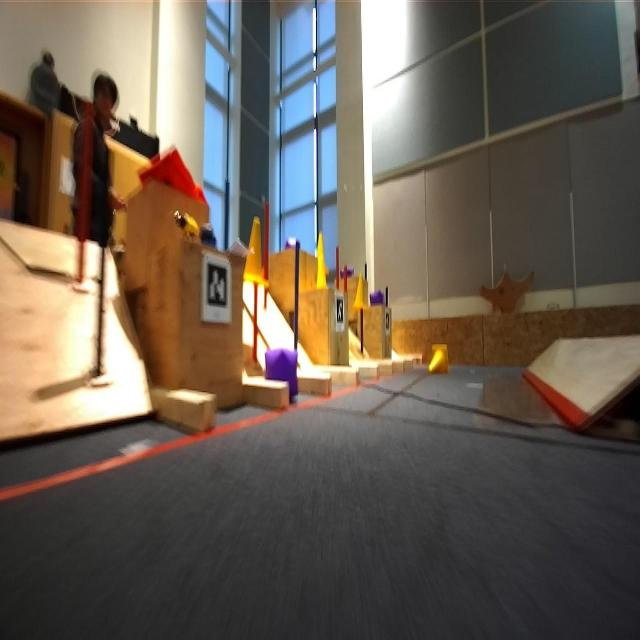frc_cone: (242, 218, 268, 284), (426, 345, 452, 378), (314, 247, 331, 291), (352, 274, 368, 314), (314, 232, 326, 275)
frc_cube: (266, 344, 298, 383), (369, 287, 385, 307), (339, 267, 355, 278)
